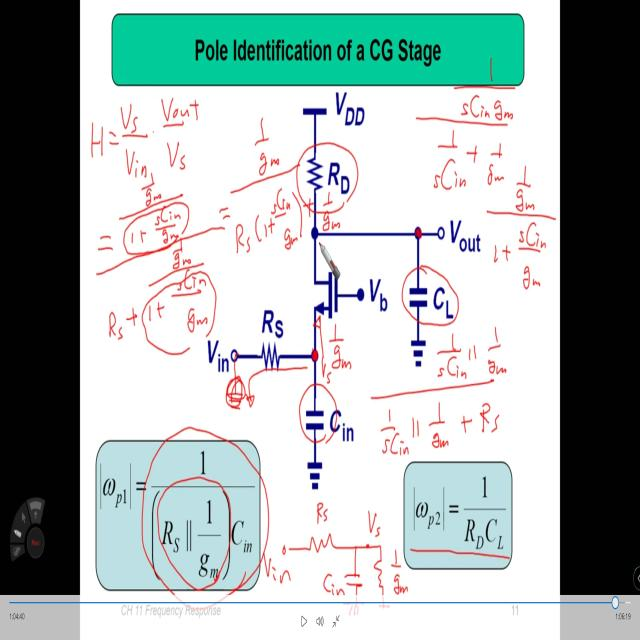panseo: (84, 79, 357, 476), (414, 47, 556, 306), (363, 316, 522, 475), (248, 490, 414, 599)
